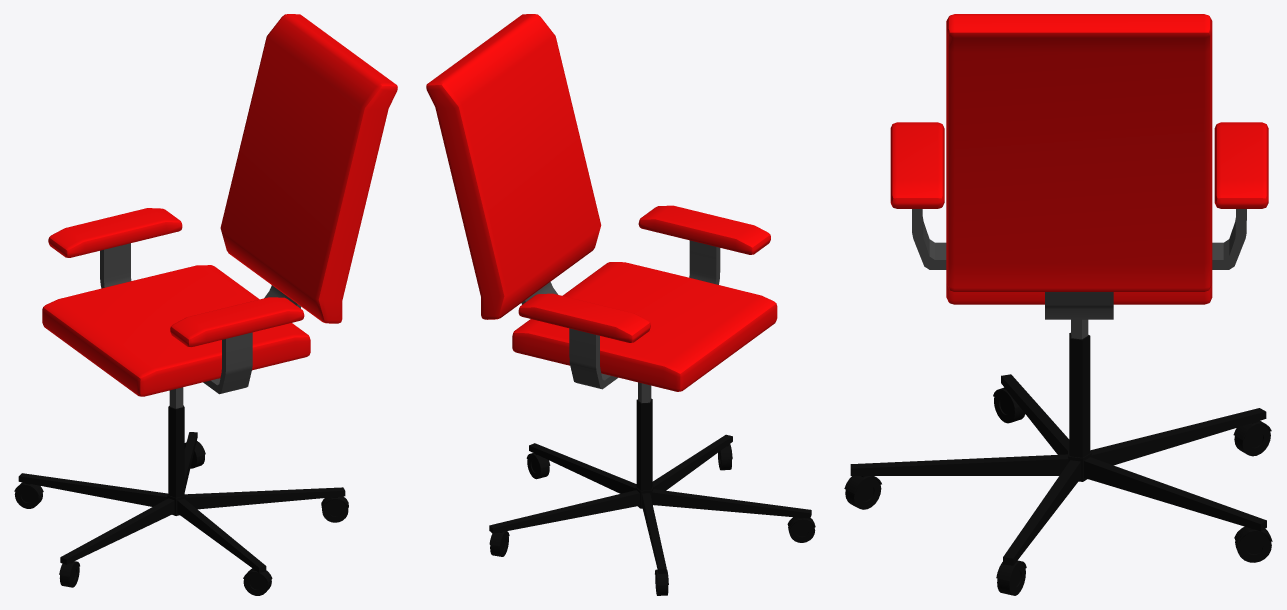
Rendered from sm_chair.fbx.
3 renders of one model, left to right at view 1: azimuth 30°, elevation 25°; view 2: azimuth 150°, elevation 25°; view 3: azimuth 270°, elevation 25°, orthographic. The views are drawn at different scales.
Visible parts, largest first — view 1: chair_low (×3); view 2: chair_low (×3); view 3: chair_low (×3).
Boxes of the visible parts, x1,y1,x2,y2 form: chair_low (×3): [14, 14, 397, 595]; chair_low (×3): [426, 14, 815, 595]; chair_low (×3): [844, 14, 1272, 595].
Bounding box in the file's own units: 10.5 × 14.06 × 9.18.
